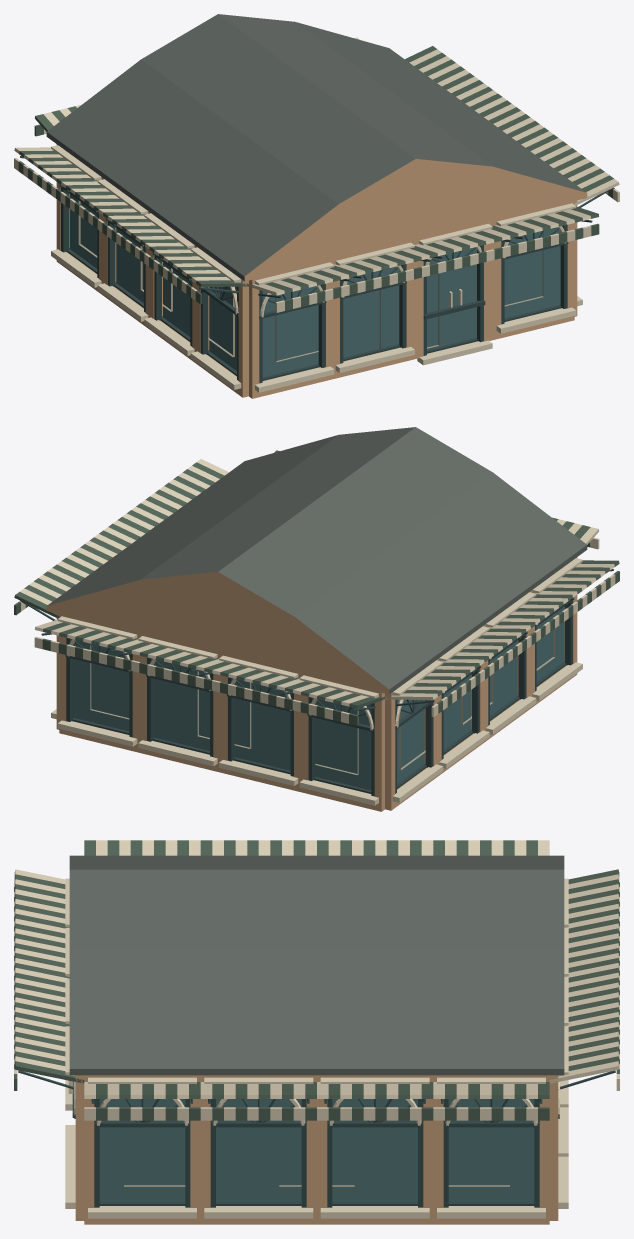
Rendered from bakery-pavilion.glb.
3 renders of one model, top to bottom at view 1: azimuth 30°, elevation 25°; view 2: azimuth 150°, elevation 25°; view 3: azimuth 270°, elevation 25°, orthographic. The views are drawn at different scales.
Visible parts, largest first — view 1: Roof main.006, Gable main.003, main/north/0/1250/glass.004, main/north/0/8750/glass.004, main/north/0/3750/glass.004, main/north/0/6250/glass.003, main/north/0/1250/wall.004, main/north/0/6250/wall.004, main/north/0/8750/wall.004, main/west/0/8750/wall.001, main/north/0/3750/wall.004, main/west/0/8750/glass.001 (+47 smaller); view 2: Roof main.006, Gable main.003, main/south/0/1250/glass.004, main/south/0/8750/glass.004, main/south/0/3750/glass.004, main/south/0/6250/glass.004, main/south/0/1250/wall.004, main/south/0/6250/wall.004, main/south/0/8750/wall.004, main/west/0/1250/wall.001, main/south/0/3750/wall.004, main/west/0/1250/glass.001 (+47 smaller); view 3: Roof main.006, main/east/0/1250/glass.001, main/east/0/8750/glass.001, main/east/0/3750/glass.001, main/east/0/6250/glass.001, main/east/0/3750/wall.001, main/east/0/6250/wall.001, main/east/0/1250/wall.001, main/east/0/8750/wall.001, main/east/0/3750/trim.001, main/east/0/6250/trim.001, main/east/0/1250/trim.001 (+43 smaller).
Part boxes in pixels (box(x1,y1,x2,y2)): Roof main.006: box(46, 14, 586, 281); Gable main.003: box(244, 159, 587, 281); main/north/0/1250/glass.004: box(262, 286, 318, 377); main/north/0/8750/glass.004: box(504, 227, 560, 318); main/north/0/3750/glass.004: box(343, 266, 399, 357); main/north/0/6250/glass.003: box(427, 247, 476, 349); main/north/0/1250/wall.004: box(249, 260, 332, 398); main/north/0/6250/wall.004: box(413, 221, 494, 359); main/north/0/8750/wall.004: box(494, 201, 574, 339); main/west/0/8750/wall.001: box(196, 246, 248, 397); main/north/0/3750/wall.004: box(333, 240, 413, 378); main/west/0/8750/glass.001: box(209, 286, 236, 370); Roof main.006: box(47, 427, 587, 694); Gable main.003: box(46, 572, 389, 694); main/south/0/1250/glass.004: box(315, 699, 371, 790); main/south/0/8750/glass.004: box(73, 640, 129, 731); main/south/0/3750/glass.004: box(234, 679, 290, 770); main/south/0/6250/glass.004: box(154, 660, 209, 750); main/south/0/1250/wall.004: box(301, 673, 384, 811); main/south/0/6250/wall.004: box(139, 634, 220, 772); main/south/0/8750/wall.004: box(59, 614, 139, 752); main/west/0/1250/wall.001: box(385, 659, 437, 810); main/south/0/3750/wall.004: box(220, 653, 300, 791); main/west/0/1250/glass.001: box(397, 699, 424, 783); Roof main.006: box(69, 855, 564, 1075); main/east/0/1250/glass.001: box(448, 1099, 534, 1201); main/east/0/8750/glass.001: box(99, 1099, 185, 1201); main/east/0/3750/glass.001: box(332, 1099, 417, 1201); main/east/0/6250/glass.001: box(216, 1099, 301, 1201); main/east/0/3750/wall.001: box(317, 1075, 433, 1224); main/east/0/6250/wall.001: box(200, 1075, 316, 1224); main/east/0/1250/wall.001: box(433, 1075, 549, 1224); main/east/0/8750/wall.001: box(84, 1075, 200, 1224); main/east/0/3750/trim.001: box(320, 1077, 429, 1218); main/east/0/6250/trim.001: box(204, 1077, 313, 1218); main/east/0/1250/trim.001: box(437, 1077, 545, 1218).
Bounding box in the file's own units: 10.41 × 4.9 × 10.41.
